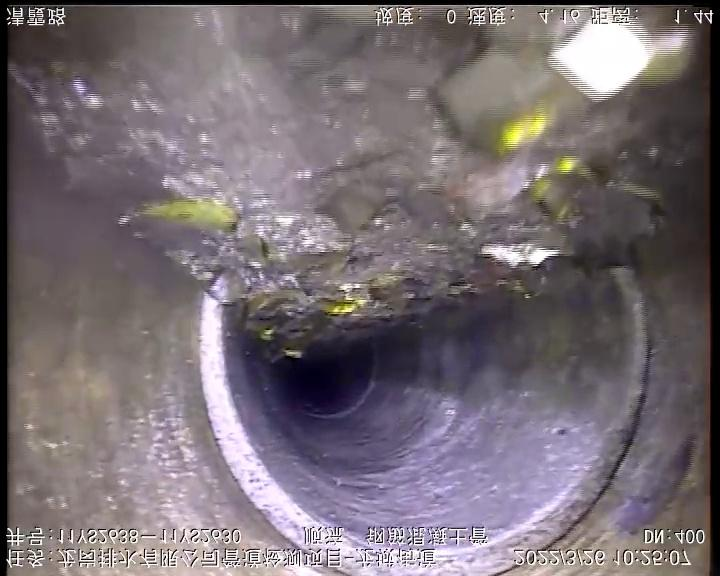CJ: (9, 8, 704, 350)
CKTJ: (200, 267, 649, 576)
